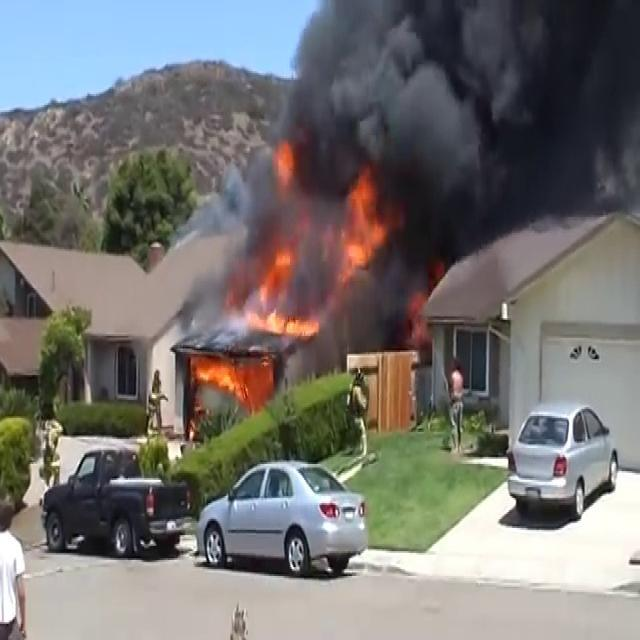Fire: (338, 166, 390, 276), (189, 348, 277, 413)
Smoke: (198, 0, 640, 313)
